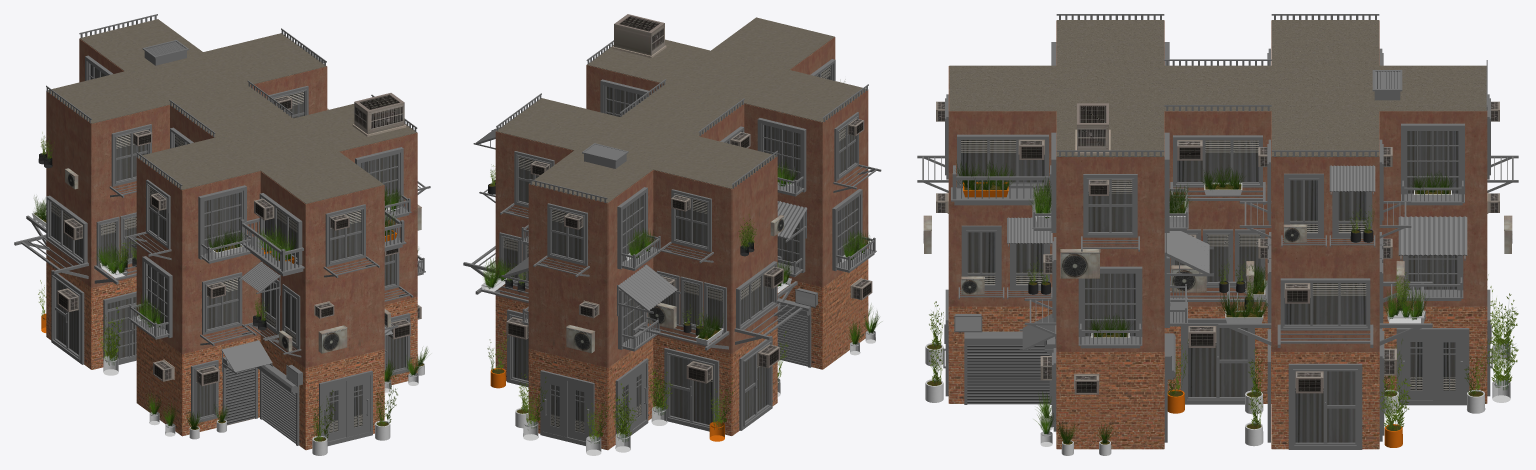
Rendered from bldg_04_red_brick_low.glb.
3 renders of one model, left to right at view 1: azimuth 30°, elevation 25°; view 2: azimuth 150°, elevation 25°; view 3: azimuth 270°, elevation 25°, orthographic. The views are drawn at different scales.
Visible parts, largest first — view 1: bldg_04_red_brick_low; view 2: bldg_04_red_brick_low; view 3: bldg_04_red_brick_low.
Part boxes in pixels (x1,y1,x2,y2): bldg_04_red_brick_low: [14, 14, 430, 455]; bldg_04_red_brick_low: [463, 14, 881, 455]; bldg_04_red_brick_low: [917, 14, 1518, 455].
Bounding box in the file's own units: 7.78 × 6.61 × 11.31.
Materials: 6 (6 with a texture image).
